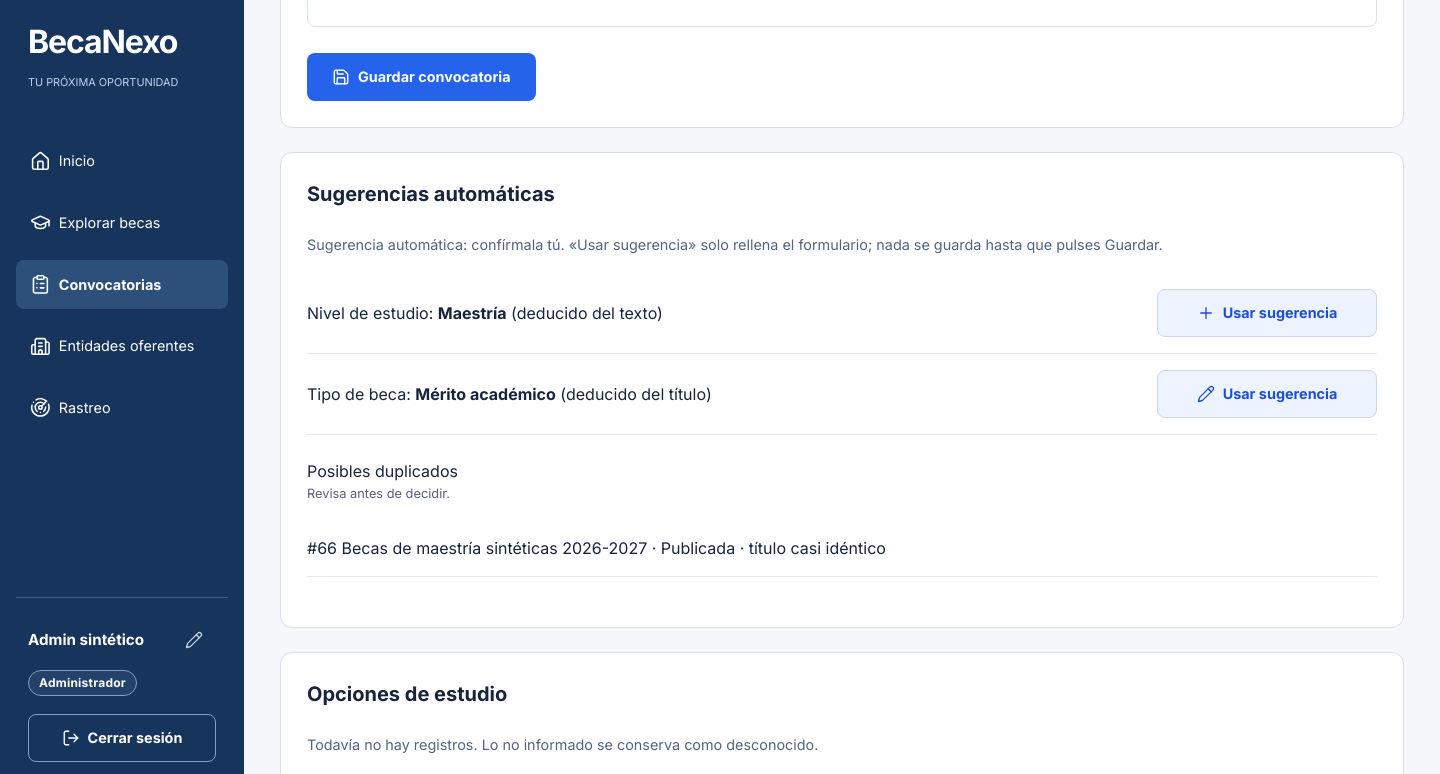
Test case: «Usar sugerencia» rellena el tipo de beca y abre la opción con el nivel, sin guardar nada
(page scrolled)
Expected: the heading "Sugerencias automáticas" is shown, [307,182,555,206]
Click the button with aria-label "Usar sugerencia de tipo de beca: Mérito académico". click: (1267, 394)
box: [1157,370,1377,418]
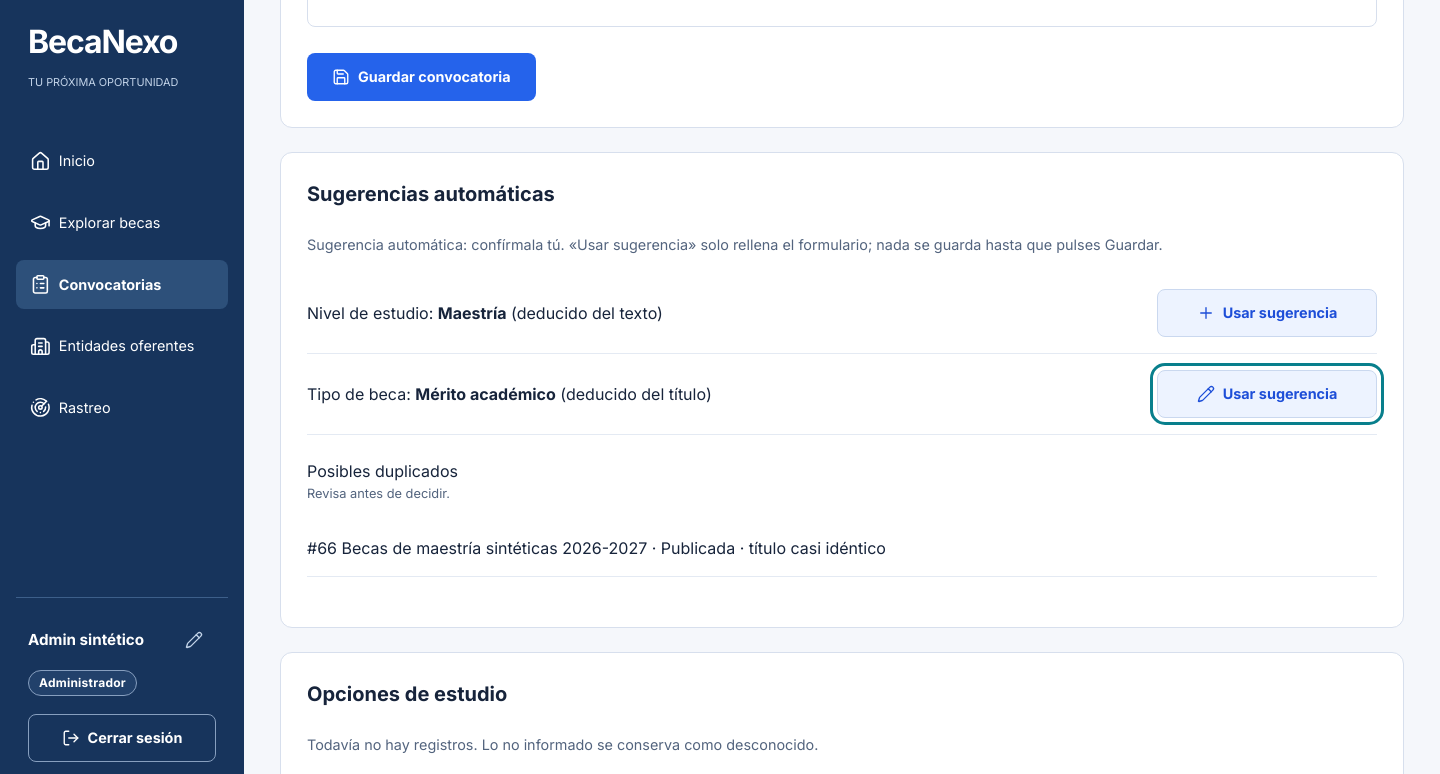
Click the button with aria-label "Usar sugerencia de nivel: Maestría". click: (1267, 313)
box: [1157,289,1377,337]
(page scrolled)
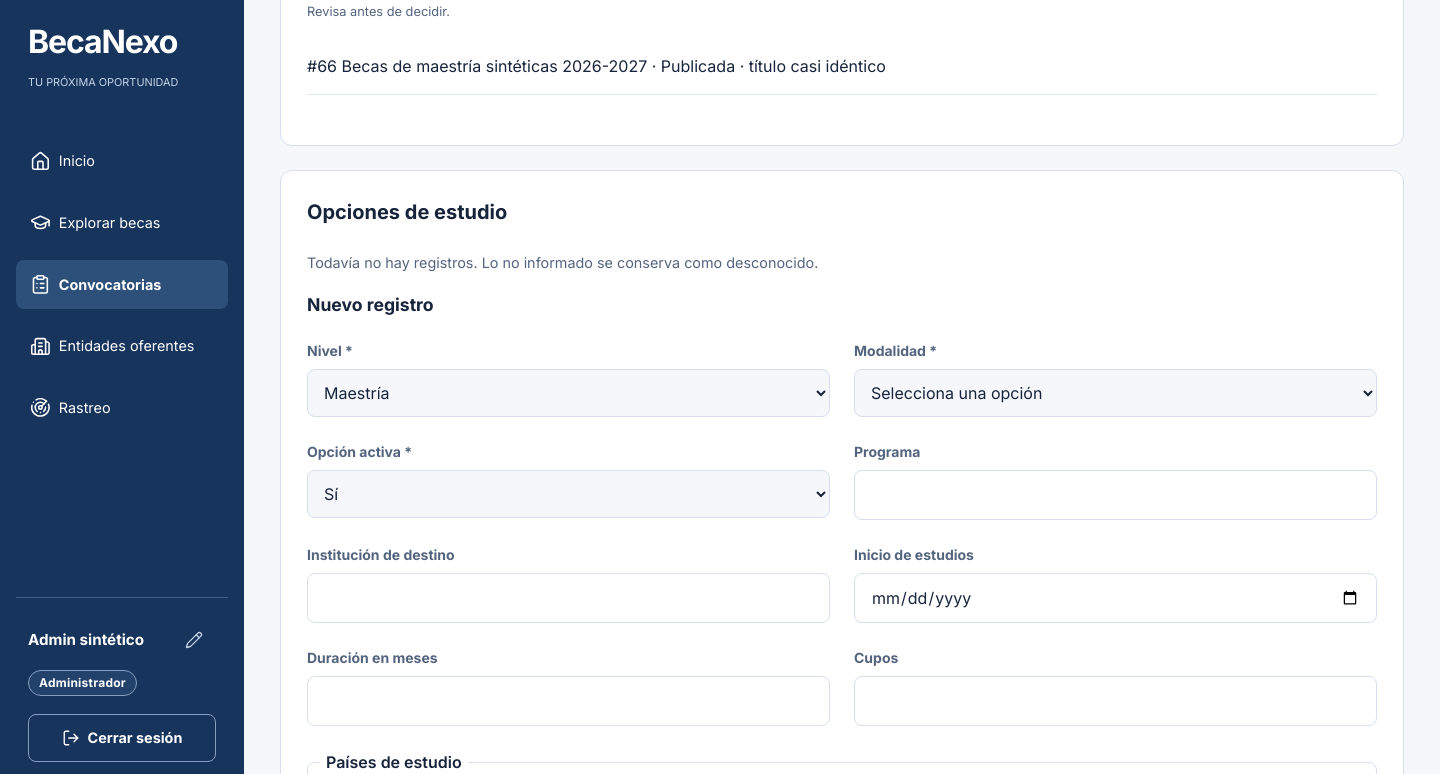
Result: the heading "Nuevo registro" is shown at [307,294,434,315]
Result: the dropdown labelled "Nivel *" shows "Maestría" at [307,369,830,417]
